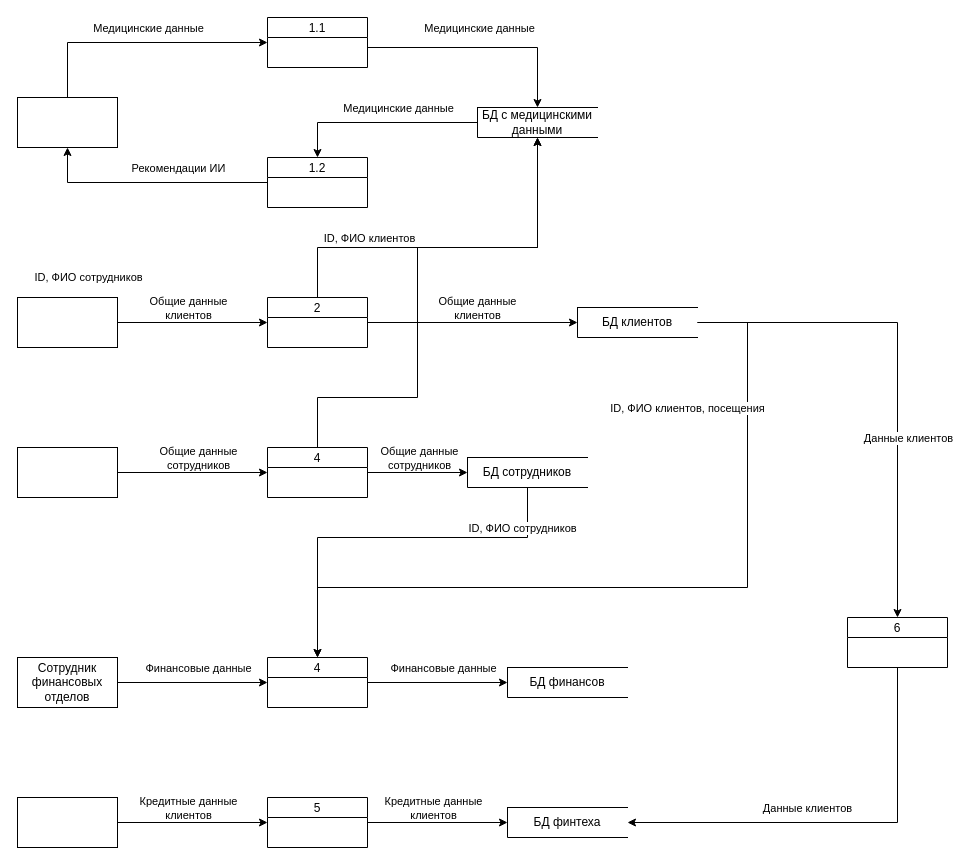
The diagram is 970 pixels wide and 865 high, and some of its shapes have lost their labels. The shapes that lost their labels are listed below. From the top down, each one's centre as x and y in pixels, then its label:
At pixel 67 122: "Медицинский работник".
At pixel 67 322: "Сотрудник для работы с клиентами".
At pixel 67 472: "Сотрудник отдела кадров".
At pixel 67 822: "Сотрудник финтех компании".
